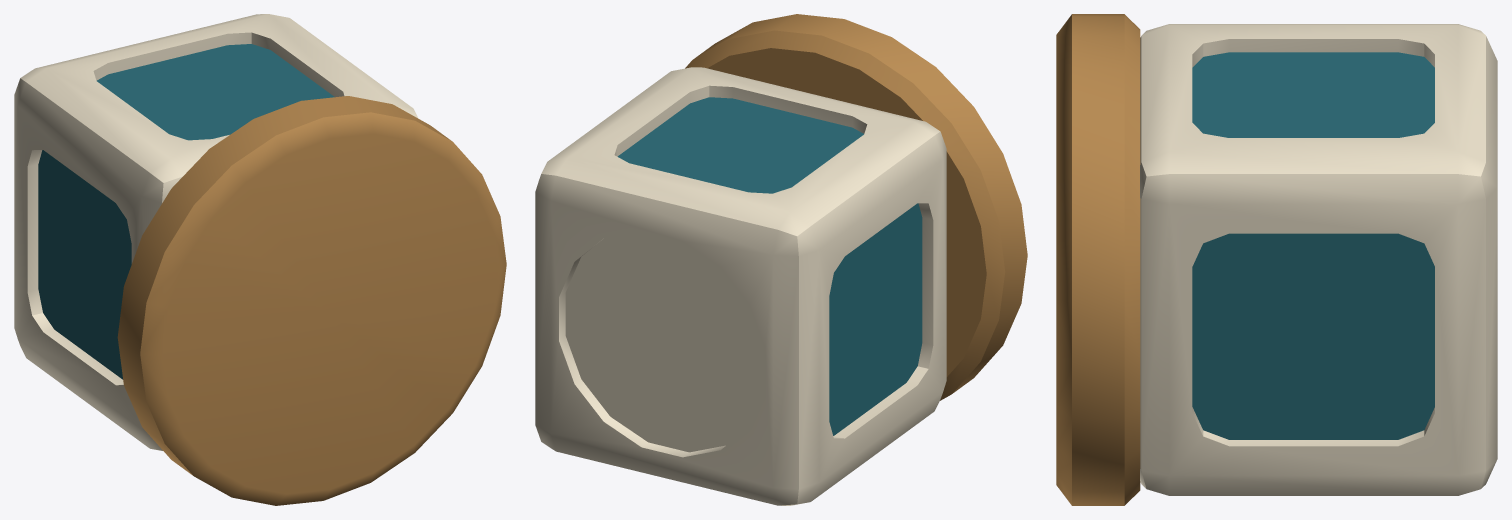
The model's file is DrillHousing.fbx.
3 renders of one model, left to right at view 1: azimuth 30°, elevation 25°; view 2: azimuth 150°, elevation 25°; view 3: azimuth 270°, elevation 25°, orthographic. The views are drawn at different scales.
Visible parts, largest first — view 1: DrillHousing_LOD0; view 2: DrillHousing_LOD0; view 3: DrillHousing_LOD0.
Part boxes in pixels (x1,y1,x2,y2): DrillHousing_LOD0: [14, 14, 506, 505]; DrillHousing_LOD0: [535, 14, 1027, 505]; DrillHousing_LOD0: [1056, 14, 1497, 505].
Size of what is drawn, in the model's own units: 0.082 by 0.082 by 0.0733.
